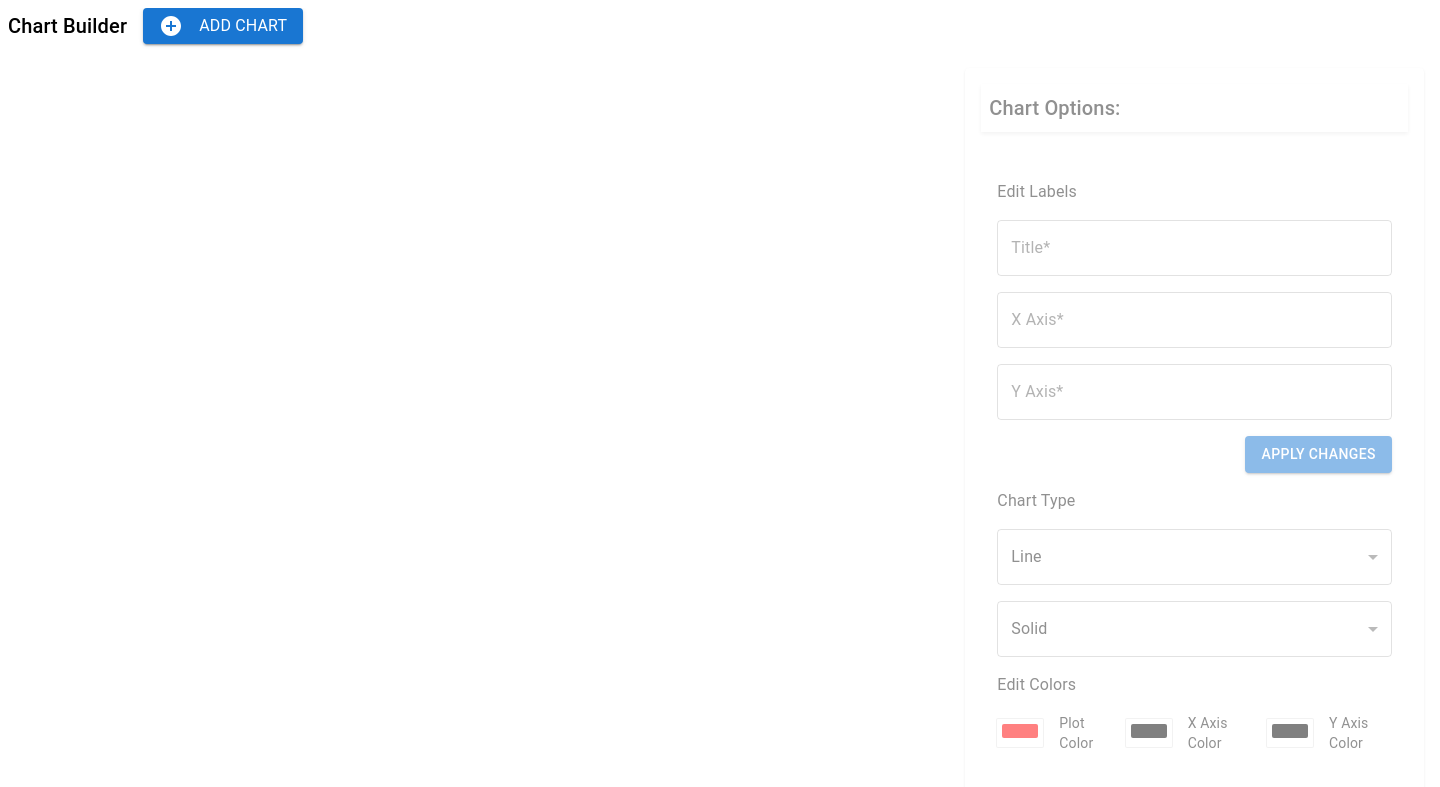
Test: AddChart › shouldHightLightErrorOnSelection
Click the button "Add Chart" at x=223, y=26, box [143,8,303,44]
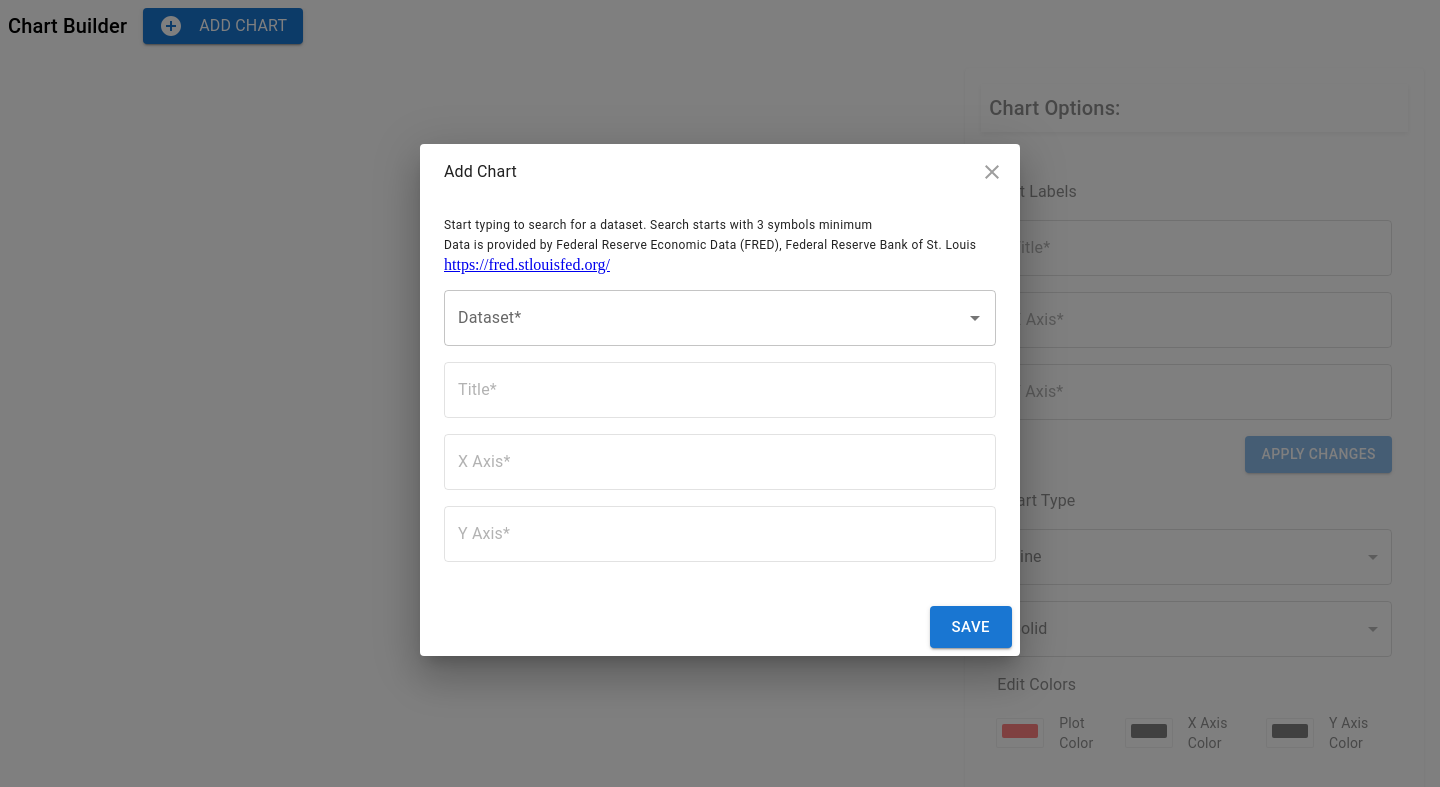
Expected: the text "Add Chart" is shown, [444,162,517,181]
Expected: the text "Start typing to search for a dataset. Search starts with 3 symbols minimum" is shown, [444,218,872,232]
Expected: the text "Data is provided by Federal Reserve Economic Data (FRED), Federal Reserve Bank of St. Louis" is shown, [444,238,976,252]
Click the element with test id "chartAutocomplete" at x=720, y=318, box [444,290,996,346]
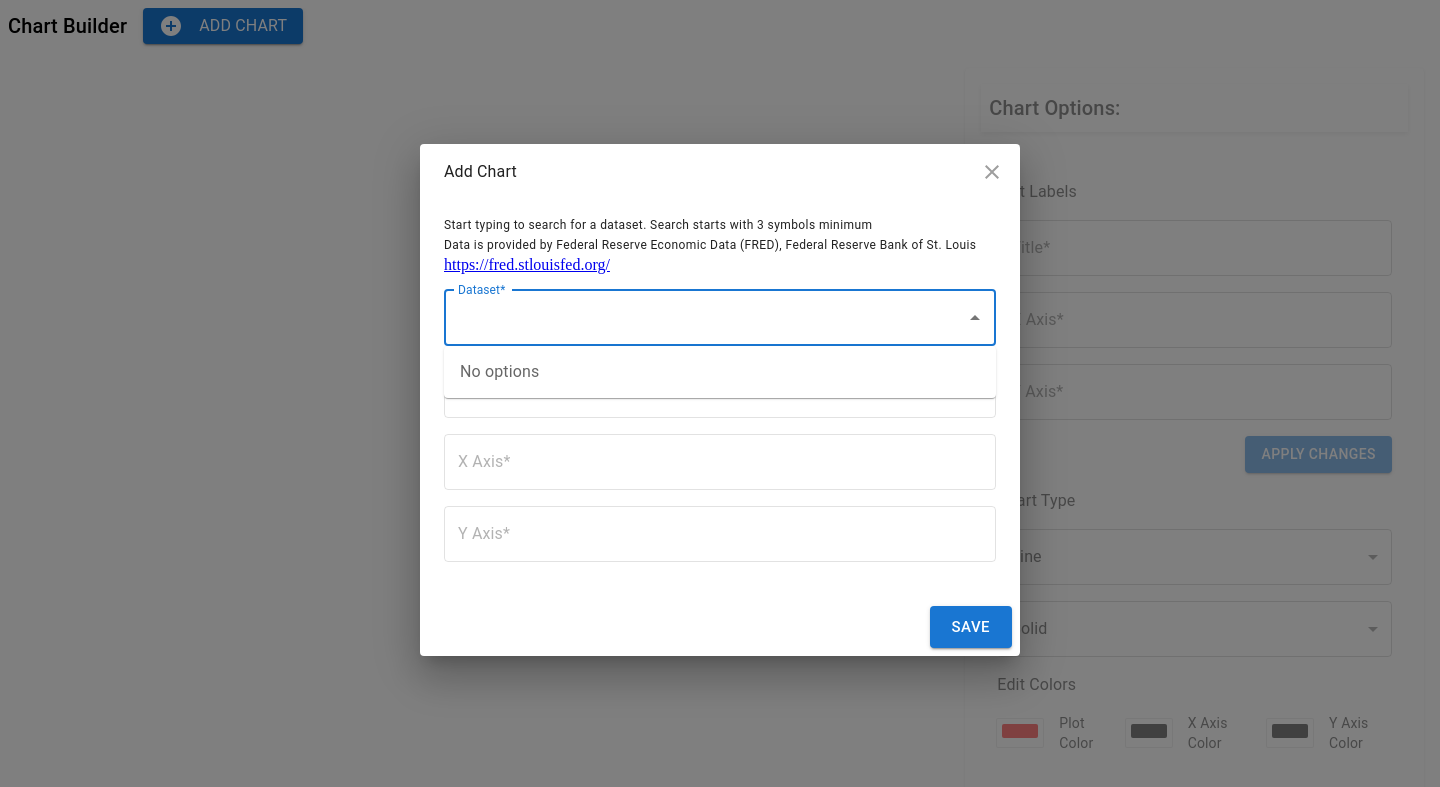
Type "Producer" into the element with test id "chartAutocomplete" at x=720, y=318, box [444,290,996,346]
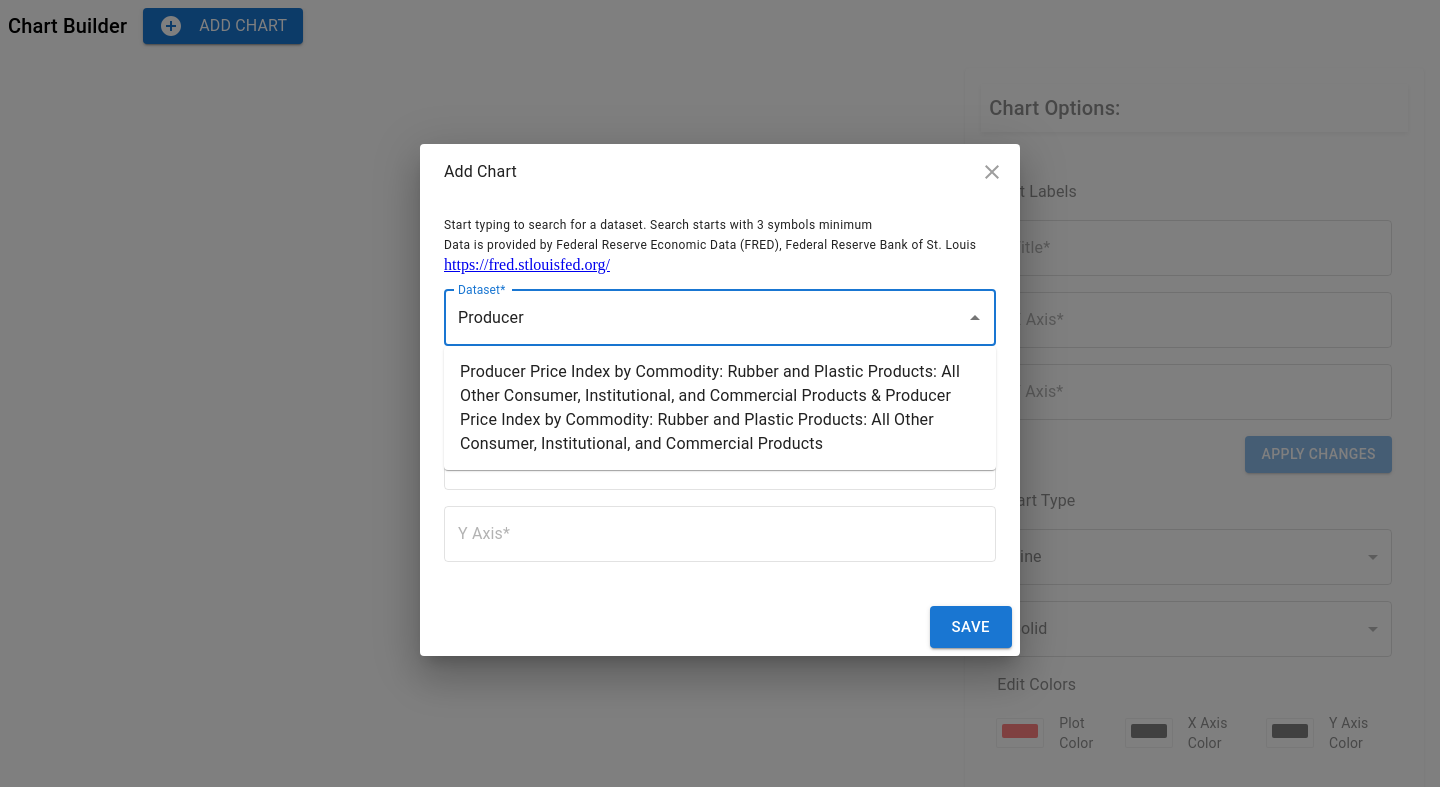
Click the option "Producer Price Index by Commodity: Rubber and Plastic Products: All Other Consumer, Institutional, and Commercial Produc" at x=720, y=408, box [444,354,996,462]
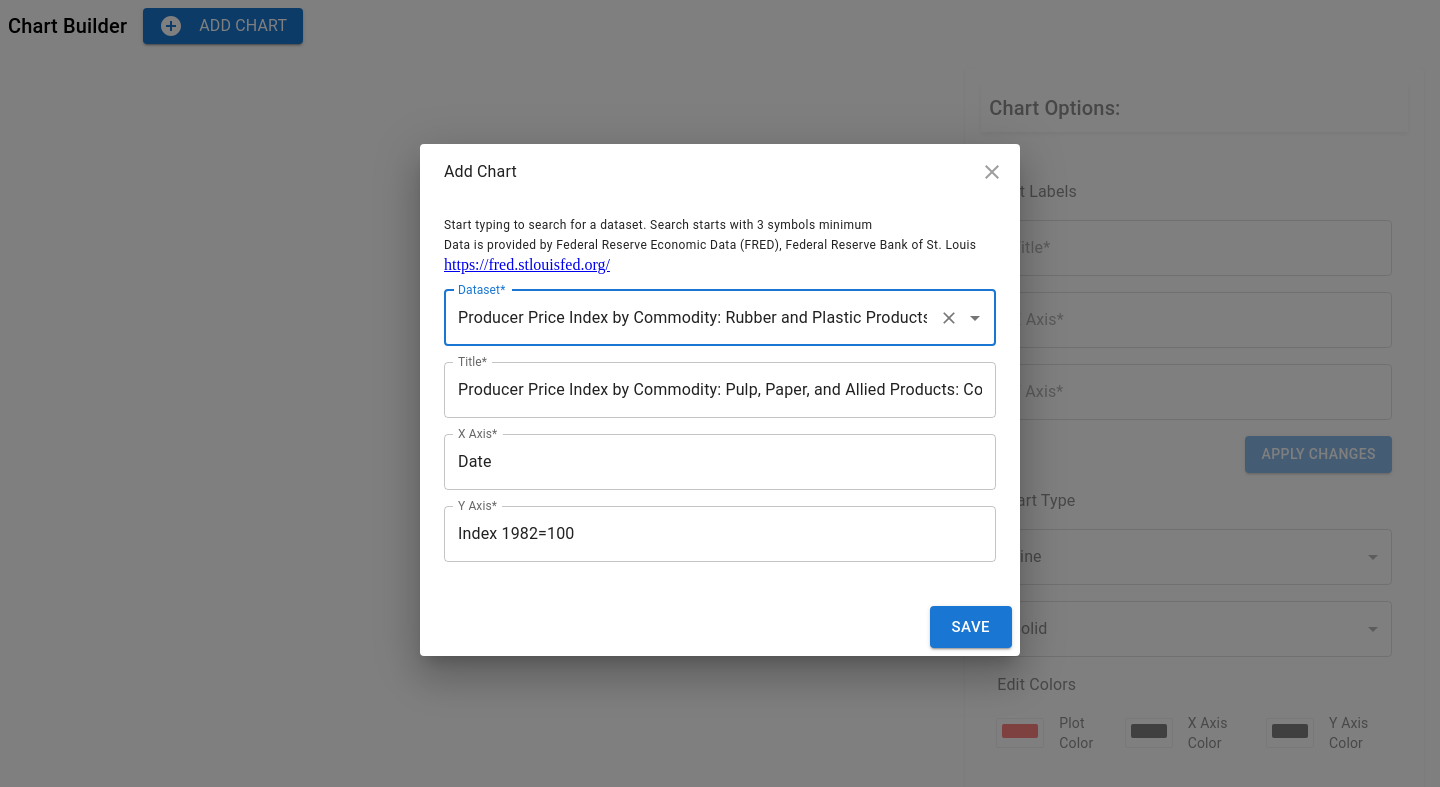
Click the button "Save" at x=971, y=627, box [930,606,1012,648]
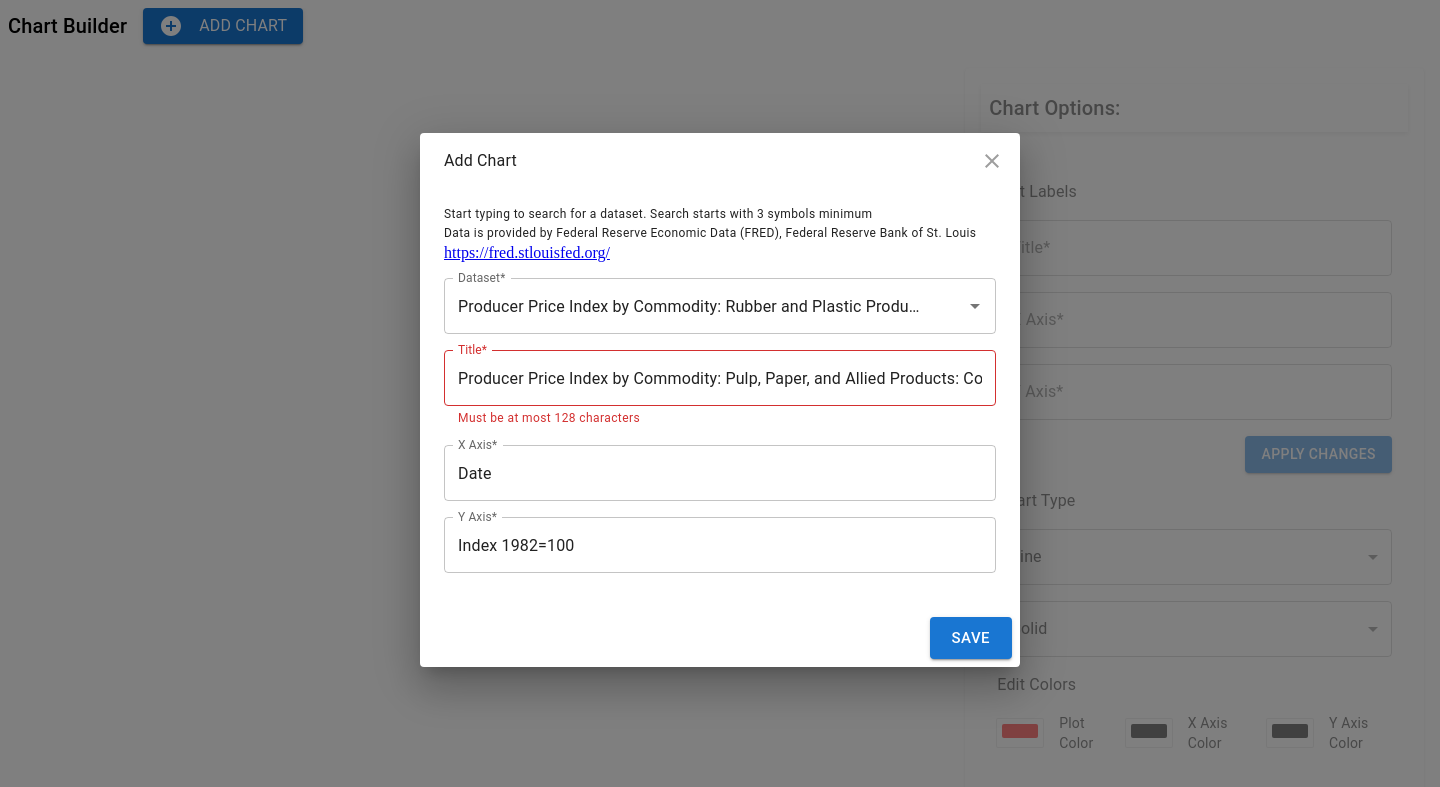
Expected: the text "Must be at most 128 characters" is shown, [458,411,640,425]
